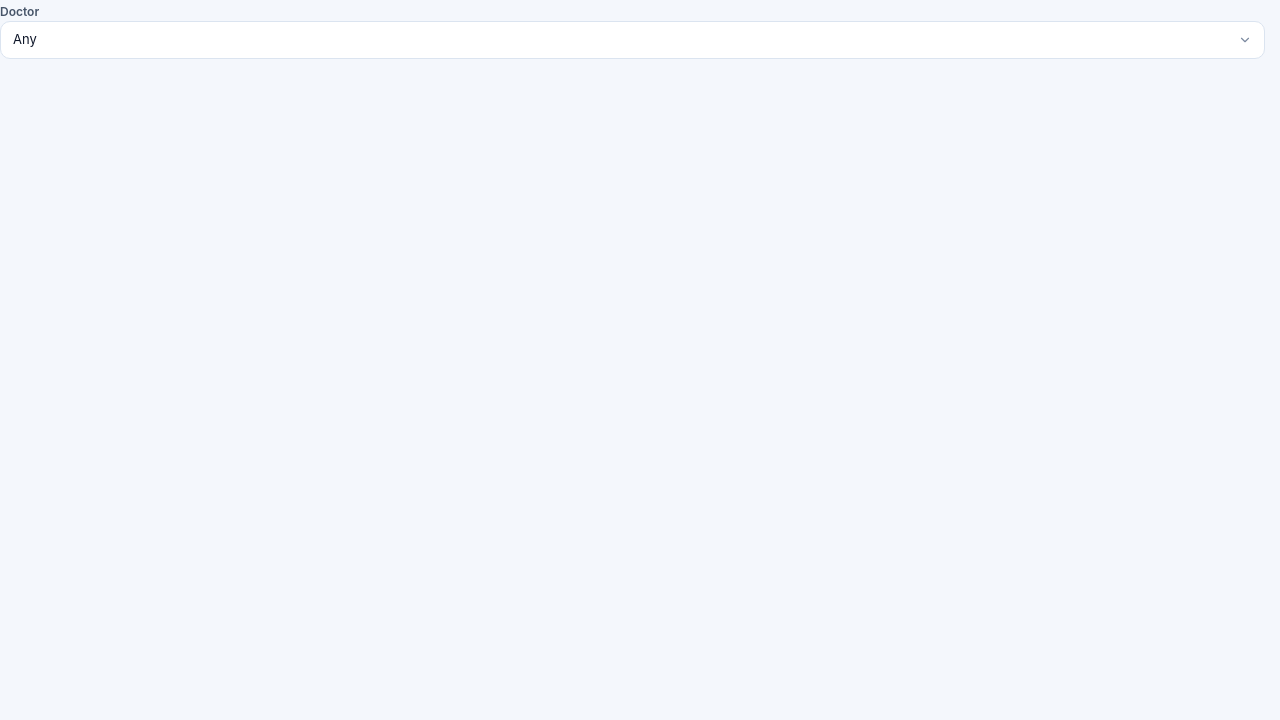
Scenario: says so when nothing matches the query
Click the dropdown named "Doctor".
click(25, 39)  # box x1=0 y1=21 x2=1265 y2=59
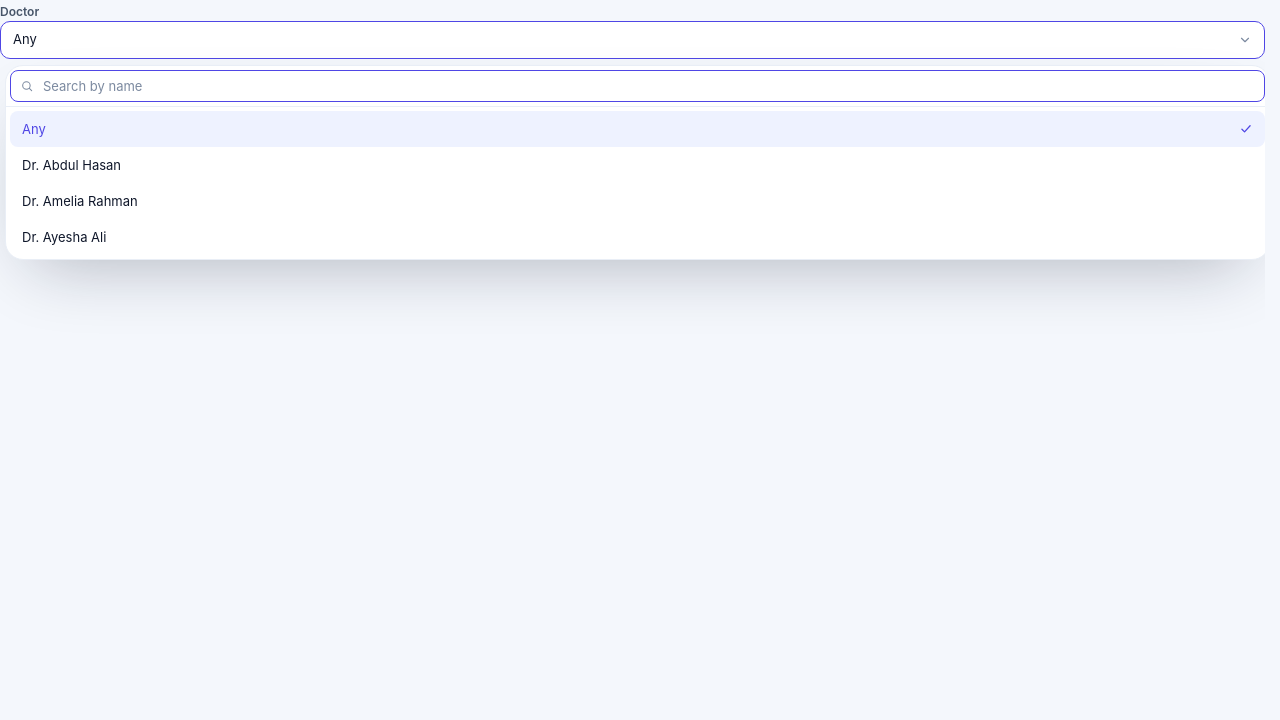
Type "zzz" into the dropdown named "Search doctors".
click(638, 86); type("zzz")  # box x1=10 y1=70 x2=1265 y2=102
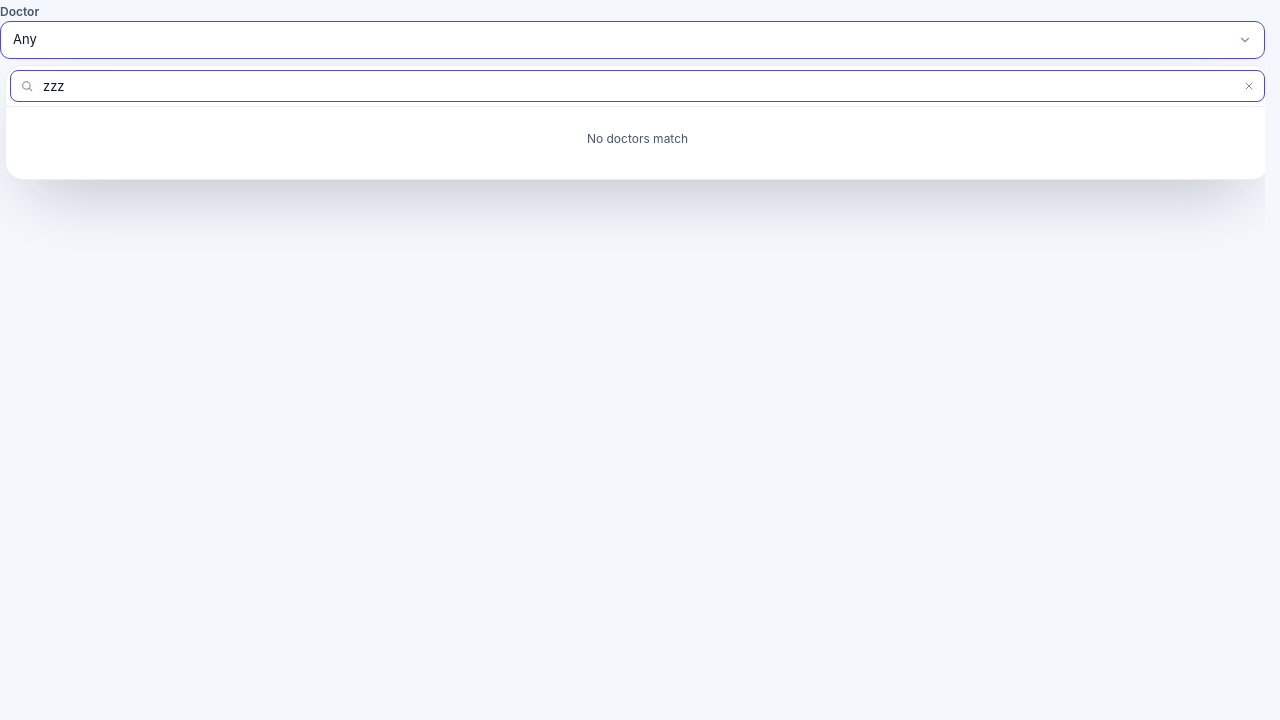
Now the text "No doctors match" is shown, box x1=587 y1=131 x2=688 y2=146
Now no options are shown
